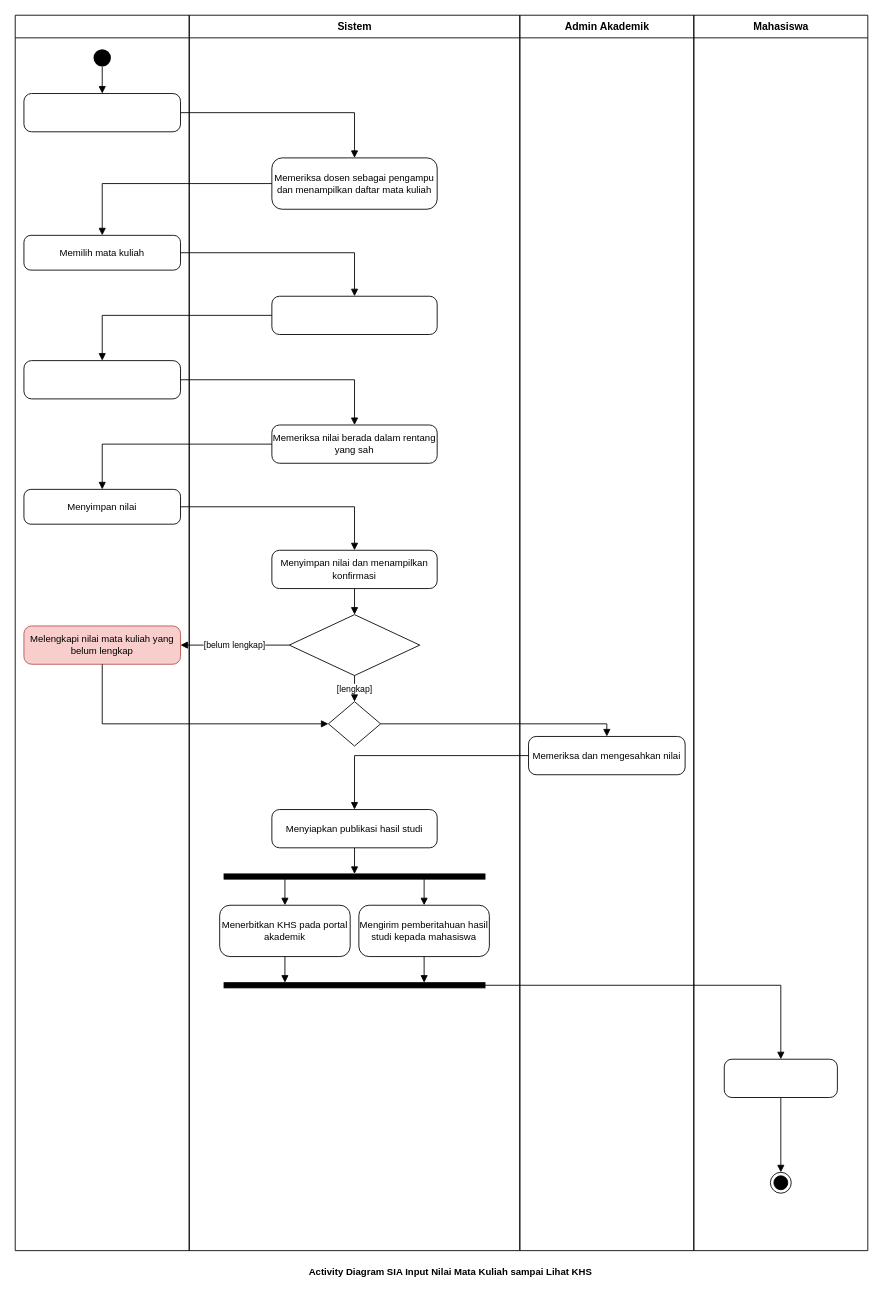
Some shapes in this 892 by 1301 pixel diagram are drawn without their labels. Here are the shapes that lost their labels. From the top down, the box of each, then its label:
(23, 93, 181, 132): Membuka fungsi Input Nilai Mata Kuliah
(271, 295, 437, 335): Menampilkan daftar mahasiswa peserta beserta isian nilai
(23, 360, 181, 399): Mengisi nilai setiap mahasiswa
(14, 14, 189, 1251): Dosen
(288, 614, 420, 676): Nilai sudah lengkap?
(723, 1058, 837, 1098): Melihat KHS
